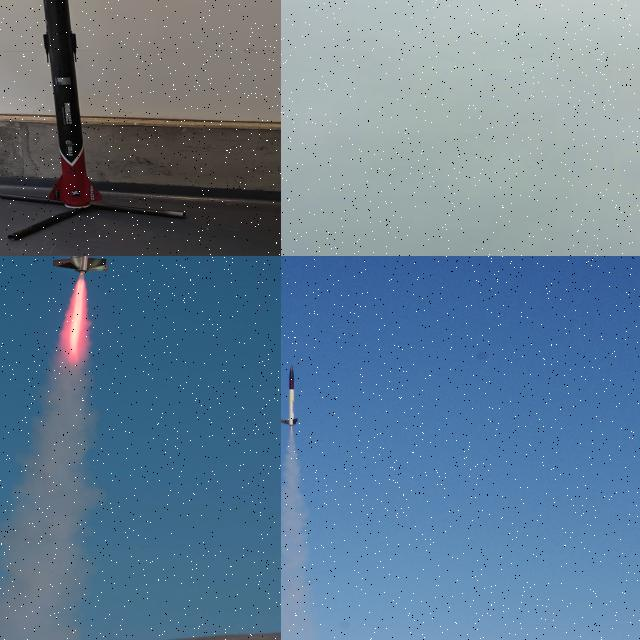Rocket: (43, 0, 102, 209), (281, 364, 298, 426)
